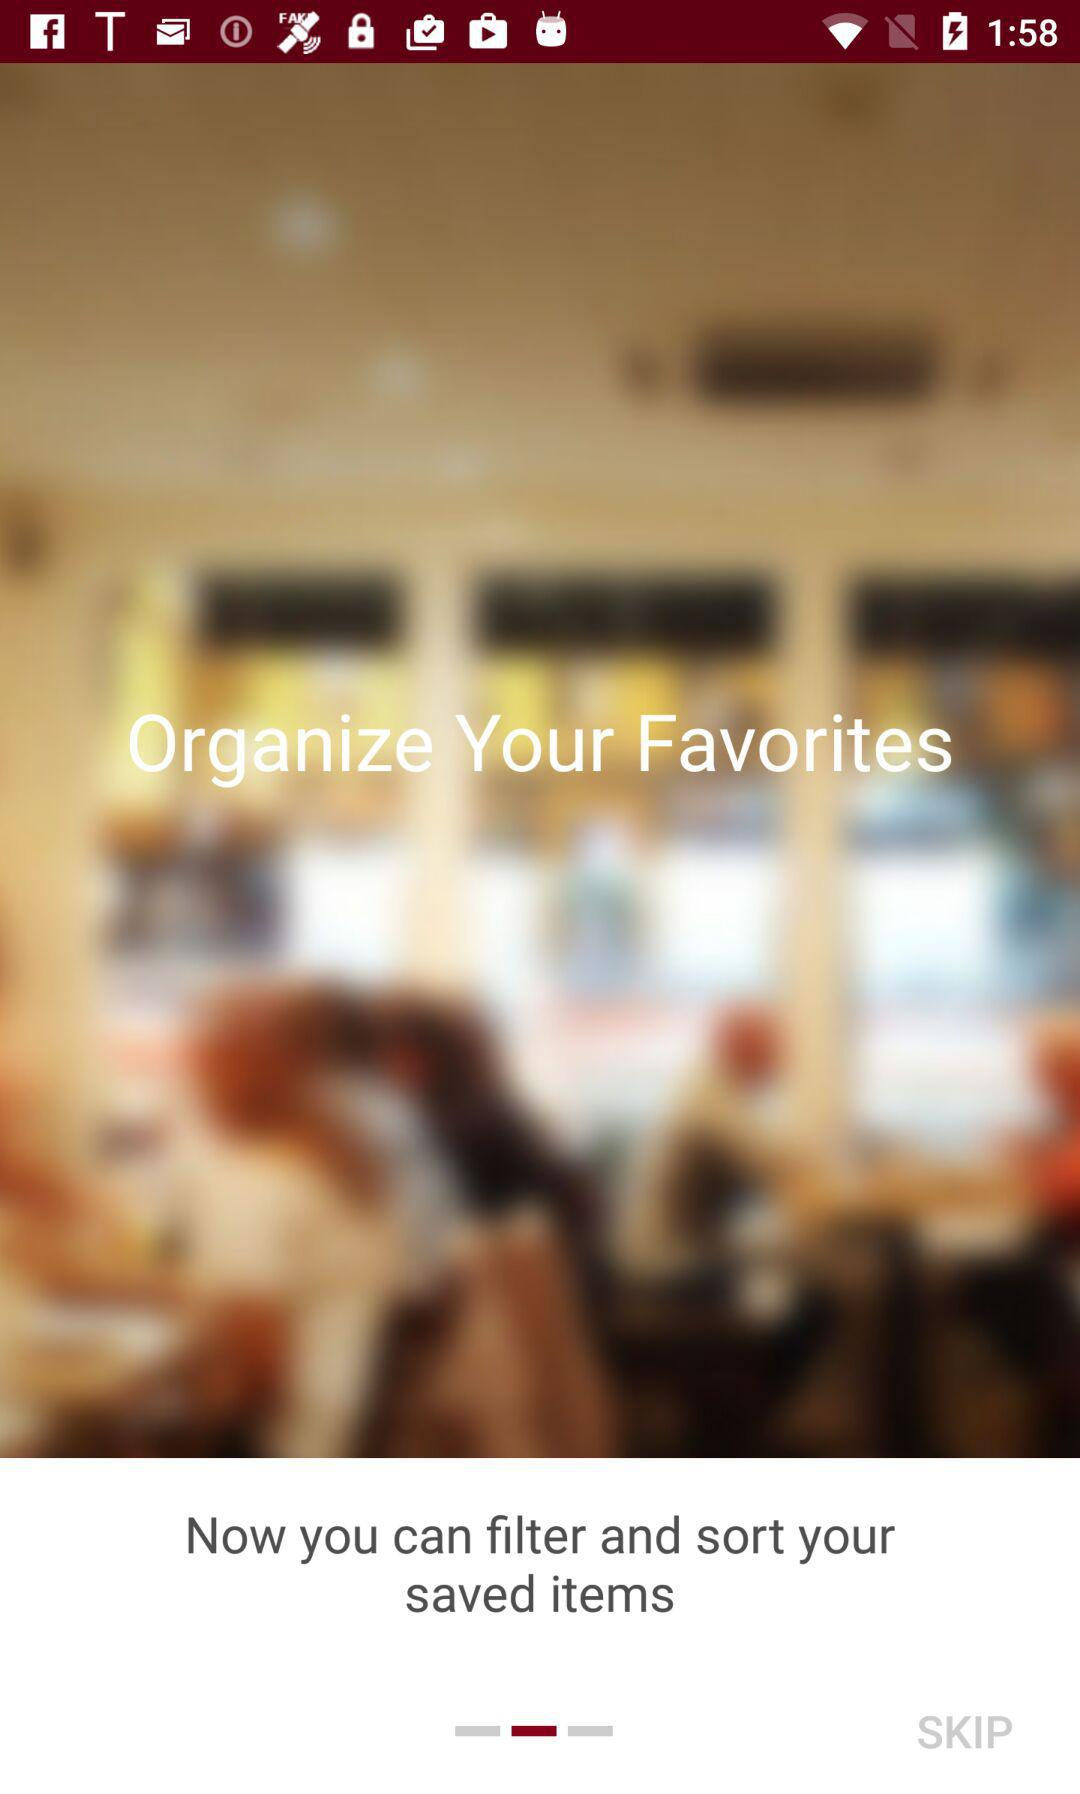Image: (1, 64, 1080, 1460)
PageIndicator: (454, 1724, 615, 1738)
Text: (186, 1513, 898, 1616), (128, 712, 954, 791), (916, 1713, 1015, 1750)
UpperTaskBar: (1, 1, 1080, 64)
